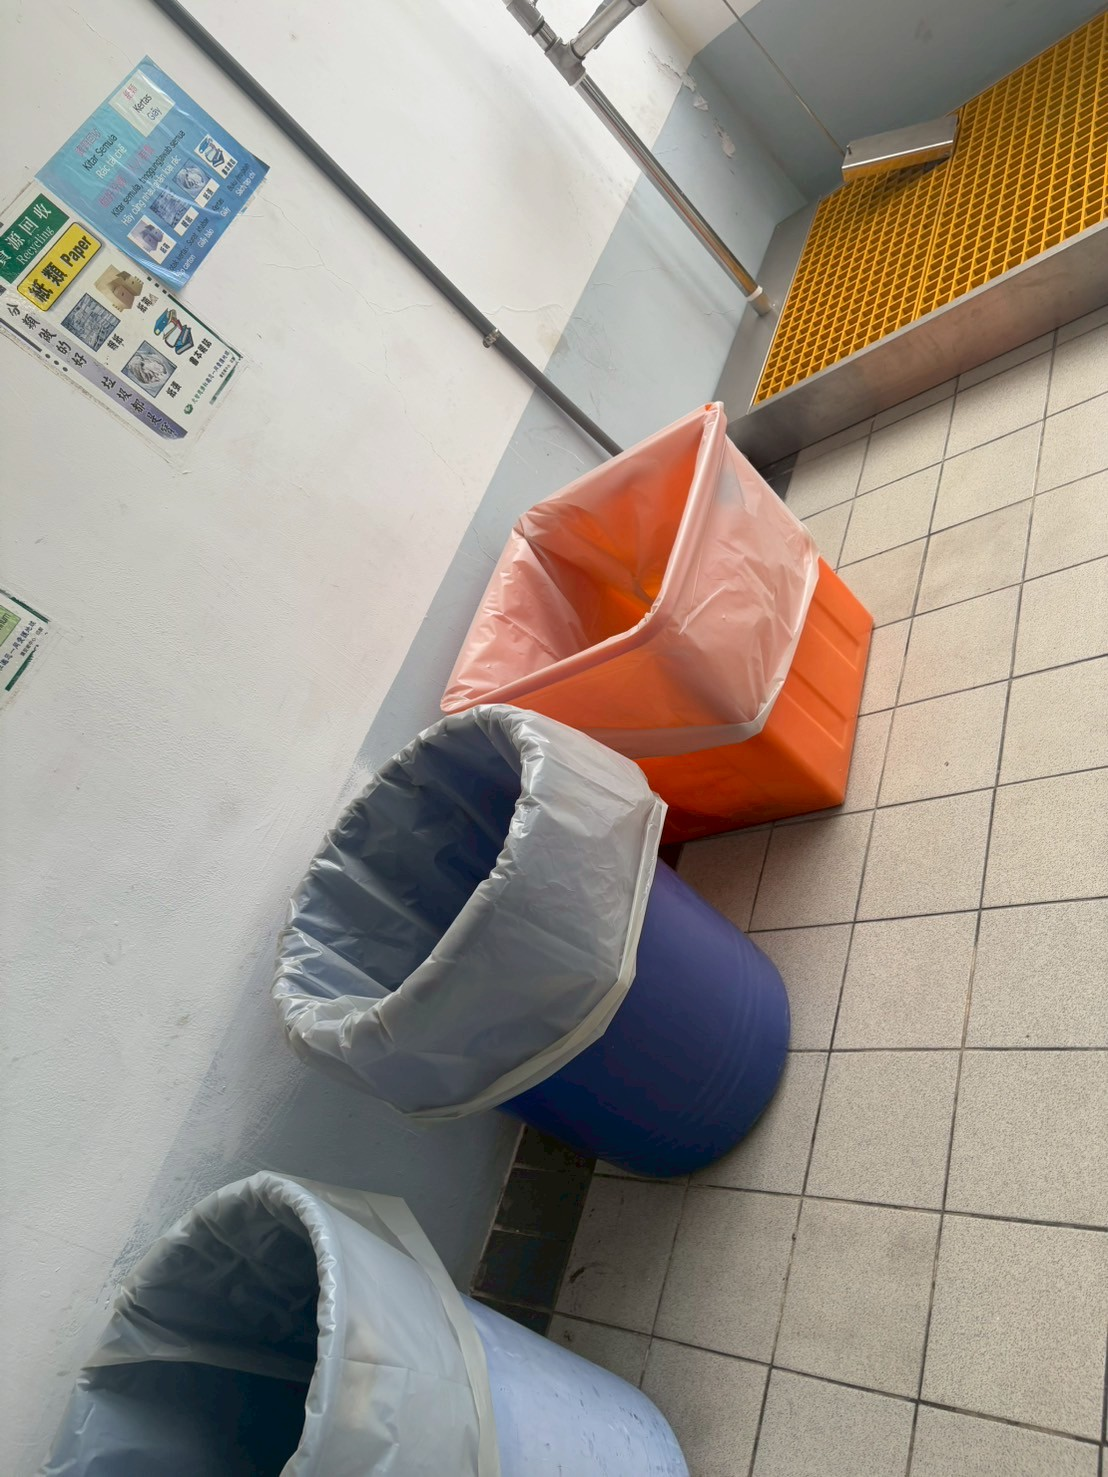normal_bin: (235, 690, 843, 1200), (419, 395, 885, 848)
